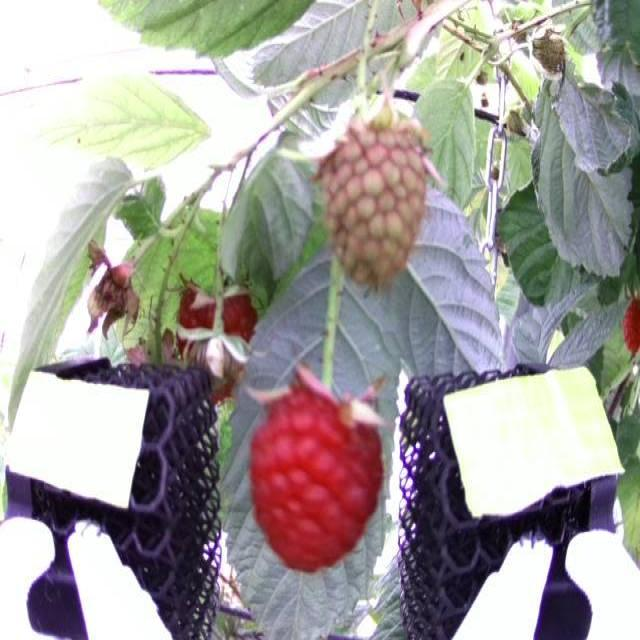Riped berries: (245, 363, 388, 573), (178, 276, 254, 389), (617, 291, 640, 351)
